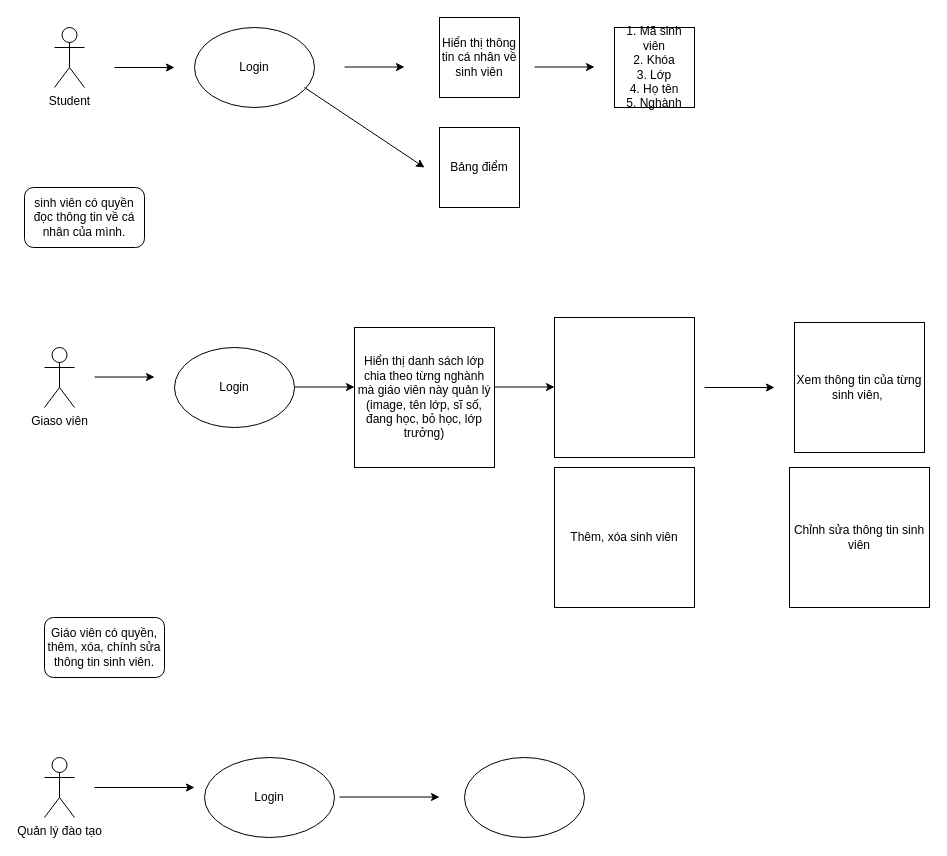
Image size: 947x856. Some labels were removed from this diagram. The shapes that lost their labels are listed below. From the top down, each one's centre as x and y in pixels, then its label:
At point (624, 387): "Xem thông tin của từng lớp. Hiển thị thông tin của từng sinh viên của lớp đó.".
At point (524, 797): "Thêm lớp cho giáo viên chủ nhiệm.".
